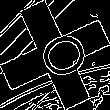O_SW: (23, 25, 87, 85)
